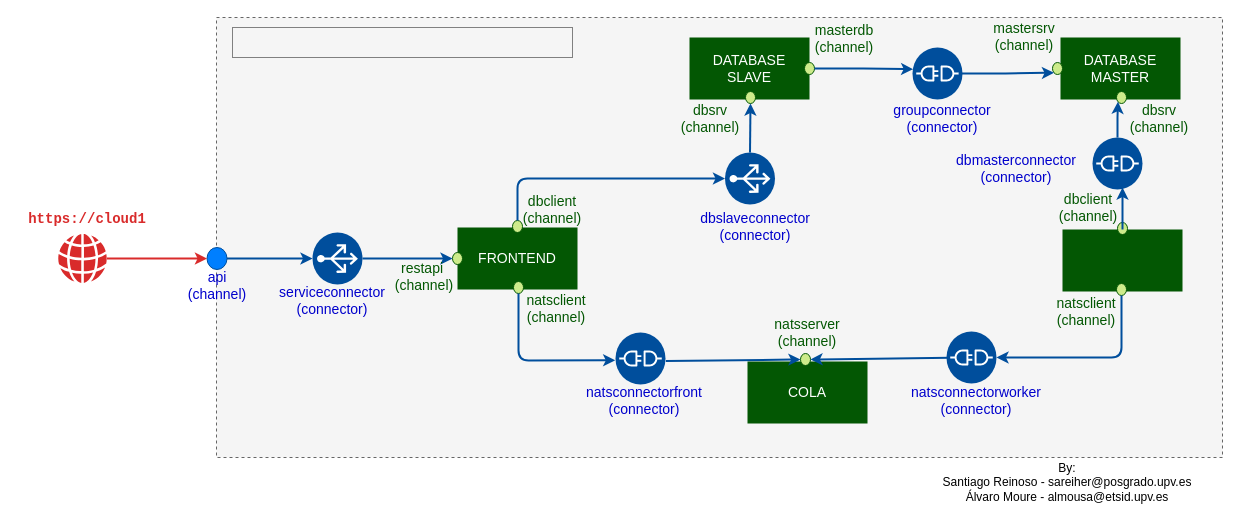
This 1250x523 diagram has some shape labels left out. The centre of each missing label's shape, as x and y in pixels:
PUSH-PULL SERVICE: the point at 402,42
WORKER: the point at 1122,260
